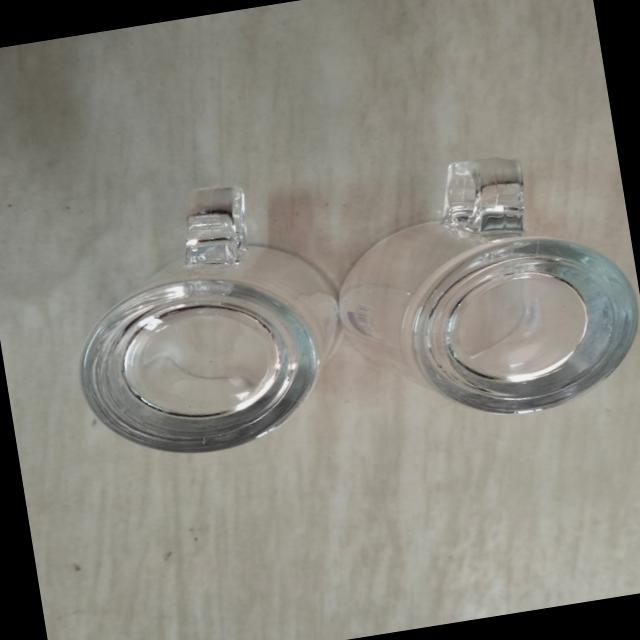glass-VX4N: (333, 125, 640, 438), (58, 188, 366, 472)
